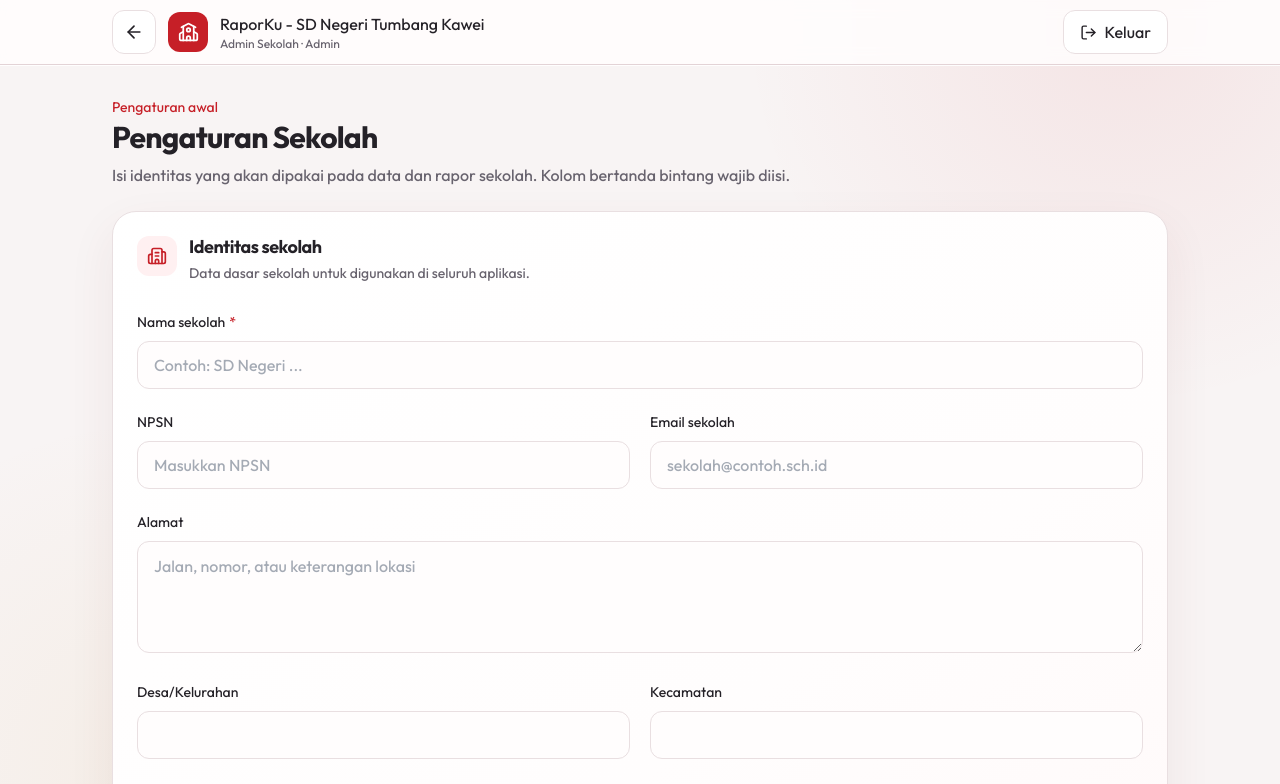
Test: SchoolSettingsPage › menampilkan pesan aman ketika penyimpanan gagal
Type "Sekolah Dasar Contoh" into the field labelled "Nama sekolah*". click: x=640, y=365
box: [137,341,1143,389]
(page scrolled)
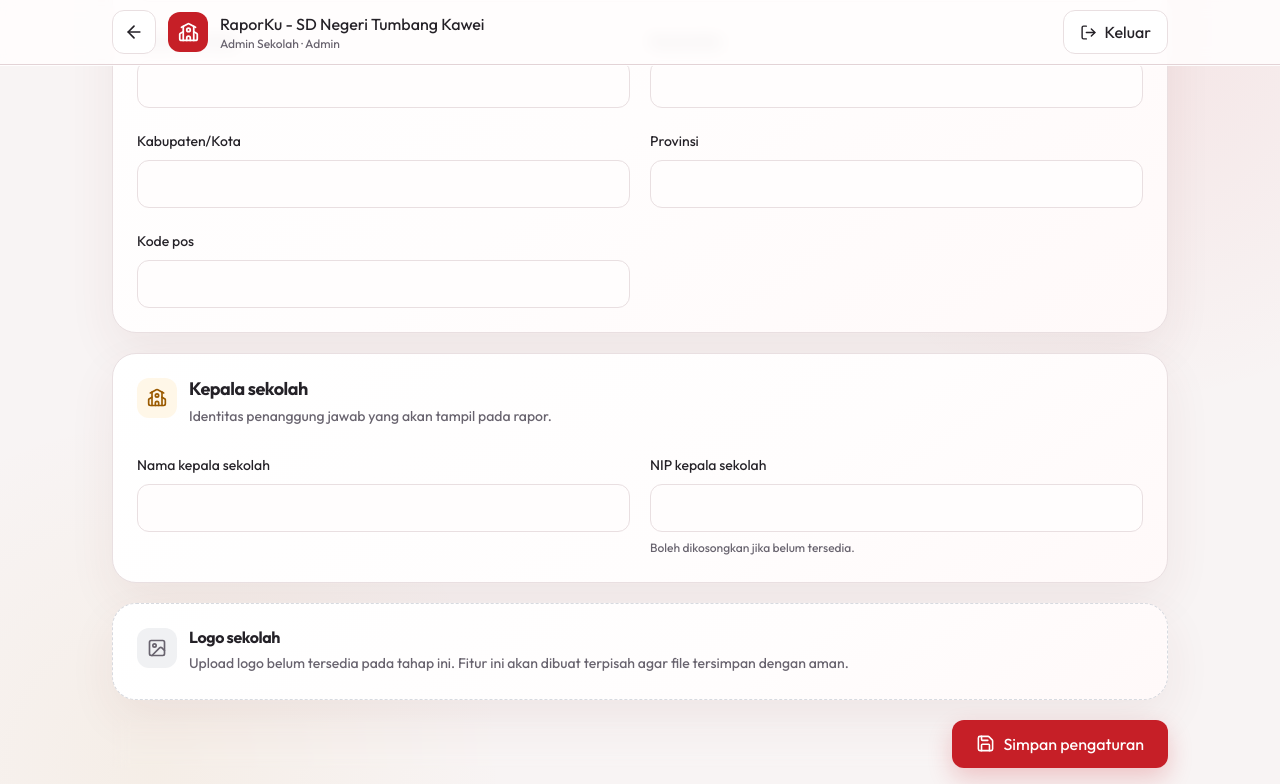
Click the button "Simpan pengaturan". click: x=1060, y=744
box: [952,720,1168,768]
(page scrolled)
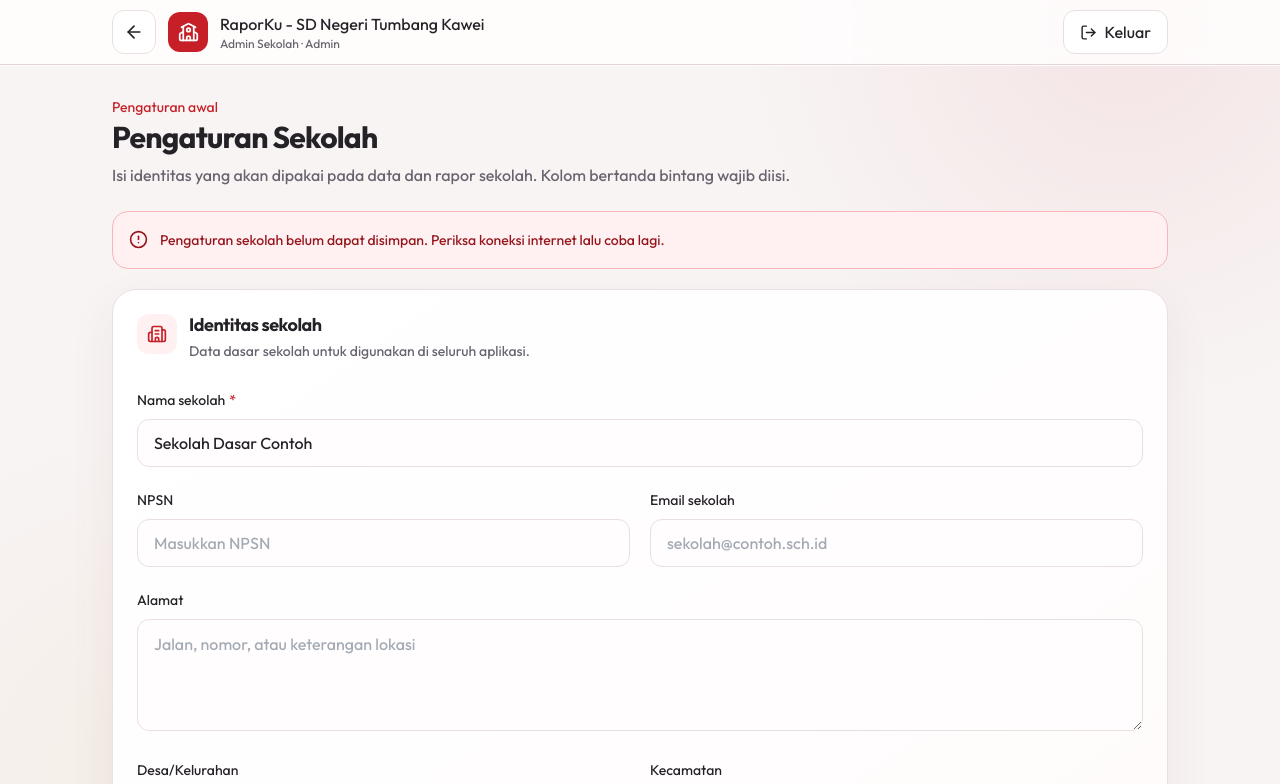
Expected: the message shows "Pengaturan sekolah belum dapat disimpan. Periksa koneksi internet lalu coba lagi.", [160,231,664,249]
